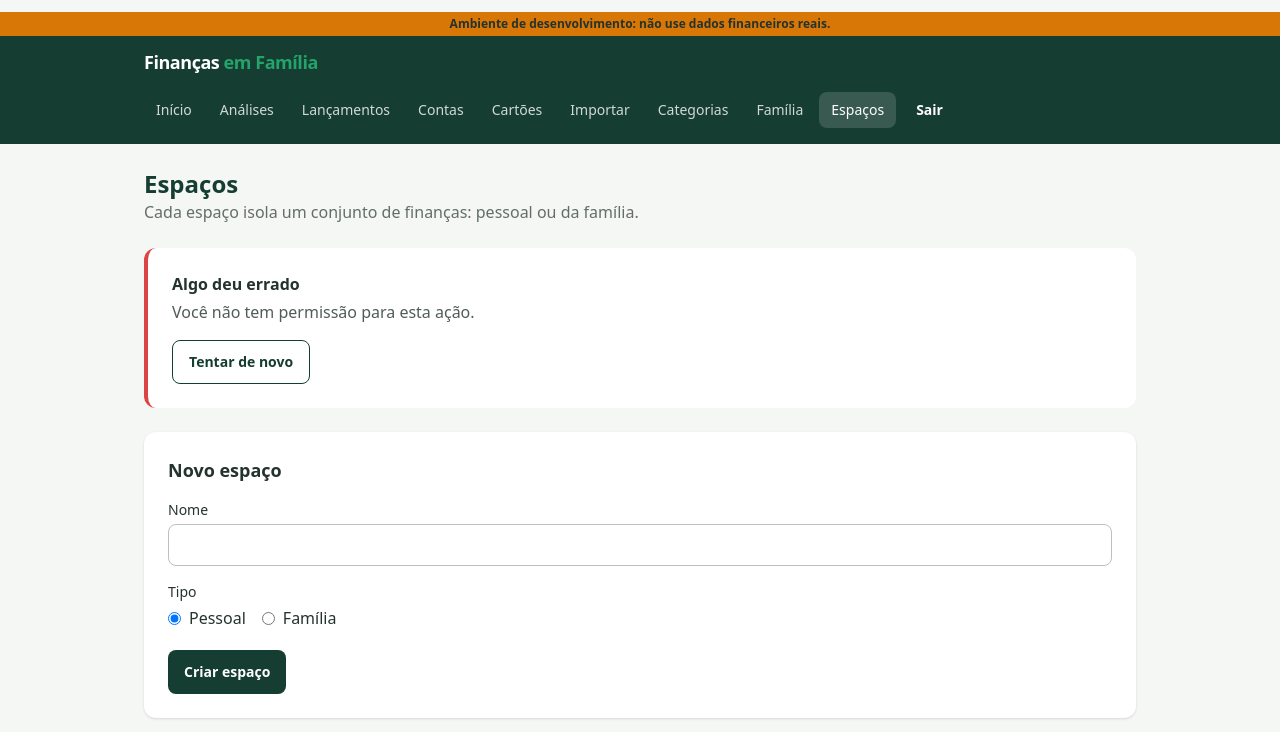
Test: HouseholdsPage › mostra erro sem detalhes técnicos e permite tentar de novo
Expected: the message shows "Você não tem permissão para esta ação.", [172,301,475,323]
Expected: the message does not show "households", [144,248,1136,408]
Step 1. Click the button "Tentar de novo" → point(241, 362), box [172,340,310,384]
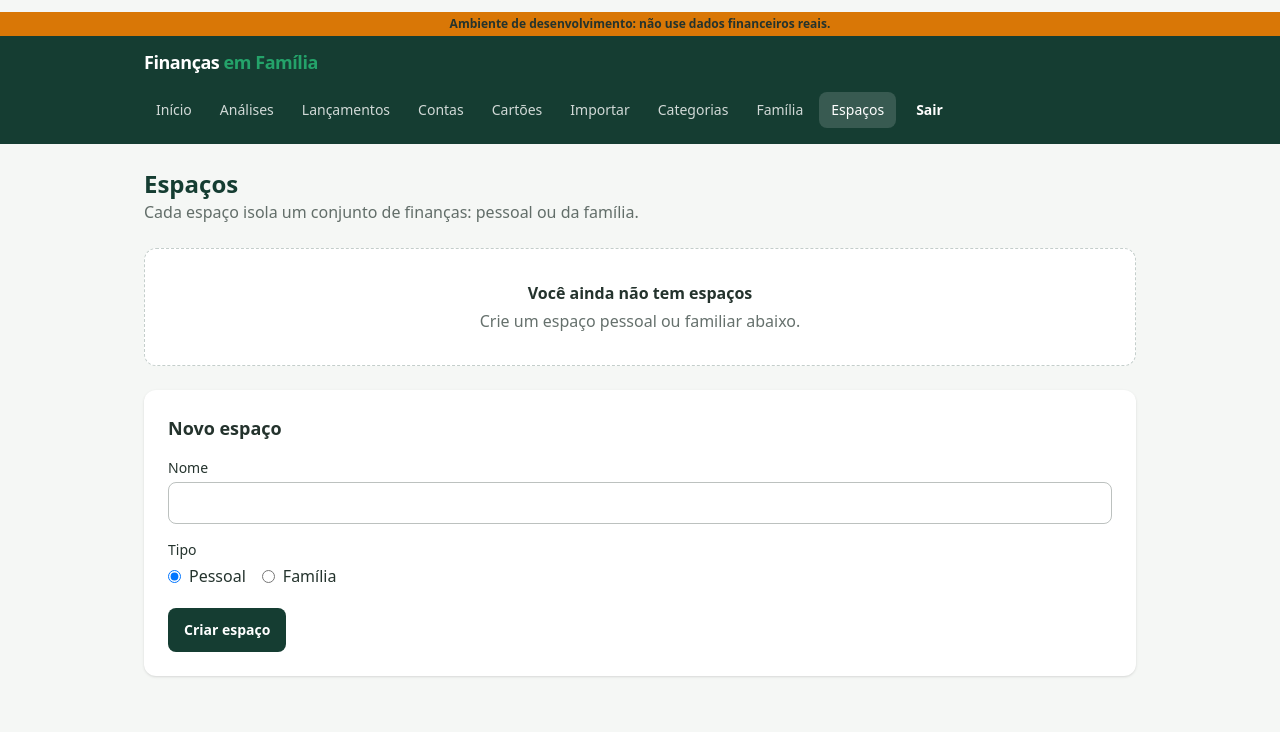
Now the text "Você ainda não tem espaços" is shown, box [528,282,752,304]
